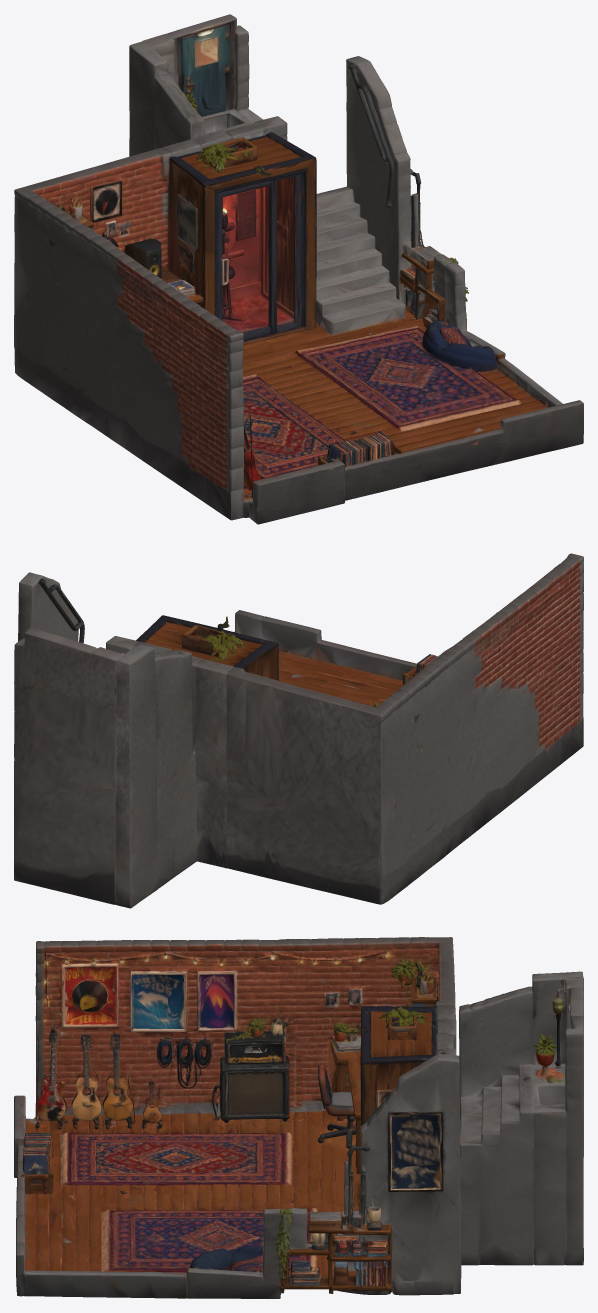
Rendered from studio.glb.
3 renders of one model, top to bottom at view 1: azimuth 30°, elevation 25°; view 2: azimuth 150°, elevation 25°; view 3: azimuth 270°, elevation 25°, orthographic. The views are drawn at different scales.
Parts seen in each view (by area): view 1: Mesh_0; view 2: Mesh_0; view 3: Mesh_0.
Boxes of the visible parts, x1,y1,x2,y2 form: Mesh_0: [14, 14, 583, 524]; Mesh_0: [14, 553, 583, 908]; Mesh_0: [14, 937, 583, 1298].
Size of the model in its own units: 0.7585 by 0.4757 by 1.
1 material, 1 textured.
